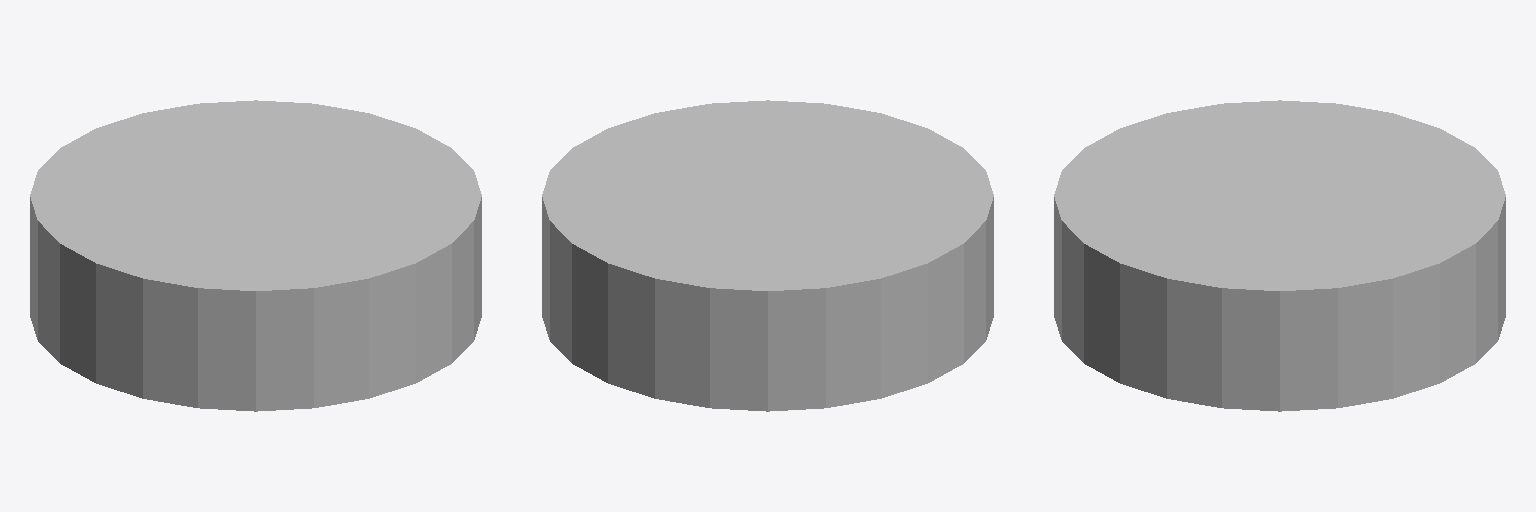
Rendered from PoolWaterMesh.obj.
The picture shows the model from 3 angles: view 1: azimuth 30°, elevation 25°; view 2: azimuth 150°, elevation 25°; view 3: azimuth 270°, elevation 25°; orthographic projection.
Parts seen in each view (by area): view 1: PoolWaterMesh; view 2: PoolWaterMesh; view 3: PoolWaterMesh.
Part boxes in pixels (x1,y1,x2,y2): PoolWaterMesh: (30,100,481,411); PoolWaterMesh: (542,100,993,411); PoolWaterMesh: (1054,100,1505,411).
Bounding box in the file's own units: 5.9 × 1.73 × 5.9.